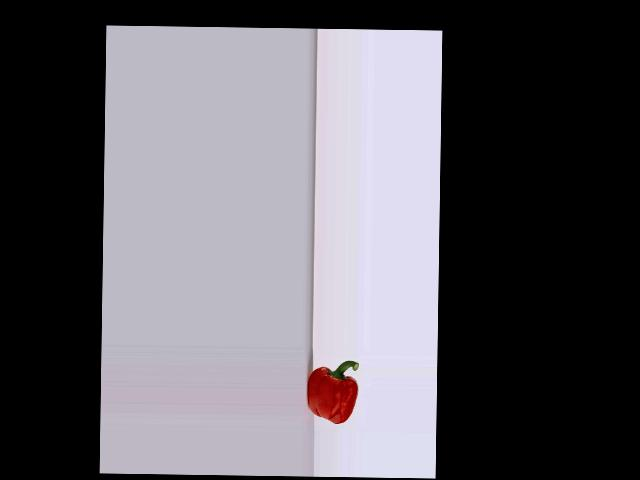bell_pepper: (304, 354, 361, 427)
